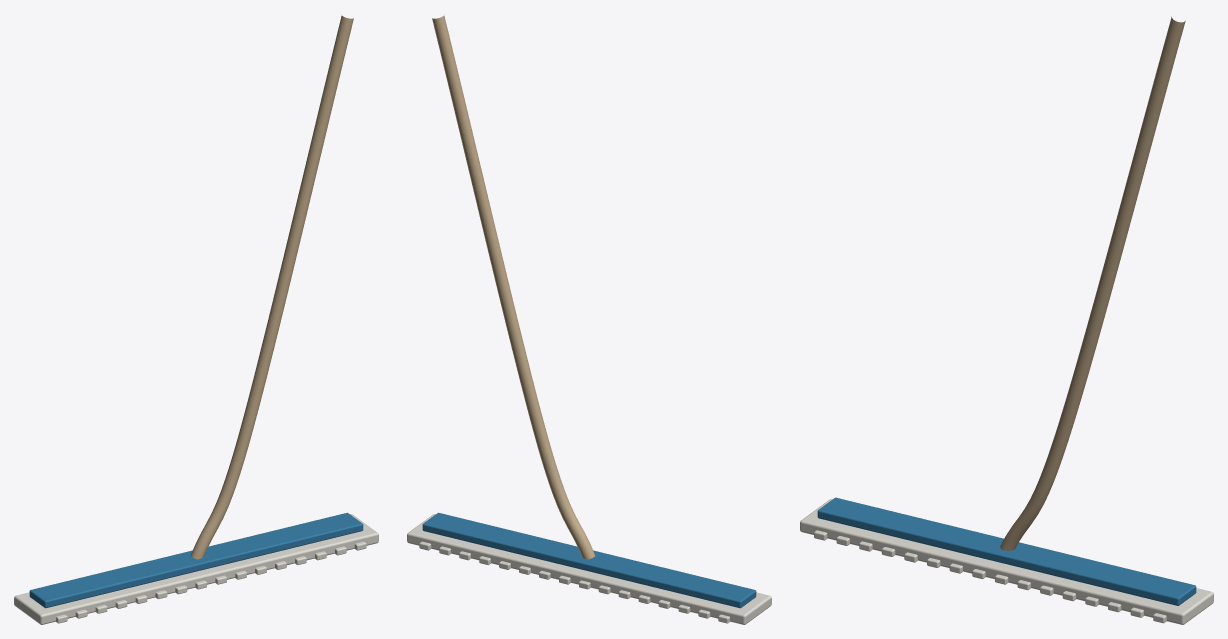
File: curling-club-and-ice-maintenance-ice-cleaning-mop-e675c011__31298.glb
The picture shows the model from 3 angles, left to right: view 1: azimuth 30°, elevation 25°; view 2: azimuth 150°, elevation 25°; view 3: azimuth 330°, elevation 25°; orthographic projection. The views are drawn at different scales.
Parts seen in each view (by area): view 1: ice-cleaning-mop; view 2: ice-cleaning-mop; view 3: ice-cleaning-mop.
Part boxes in pixels (x1=…): ice-cleaning-mop: x1=14, y1=15, x2=378, y2=624; ice-cleaning-mop: x1=407, y1=15, x2=771, y2=624; ice-cleaning-mop: x1=800, y1=16, x2=1213, y2=624.
Bounding box in the file's own units: 0.85 × 1.25 × 0.14.
